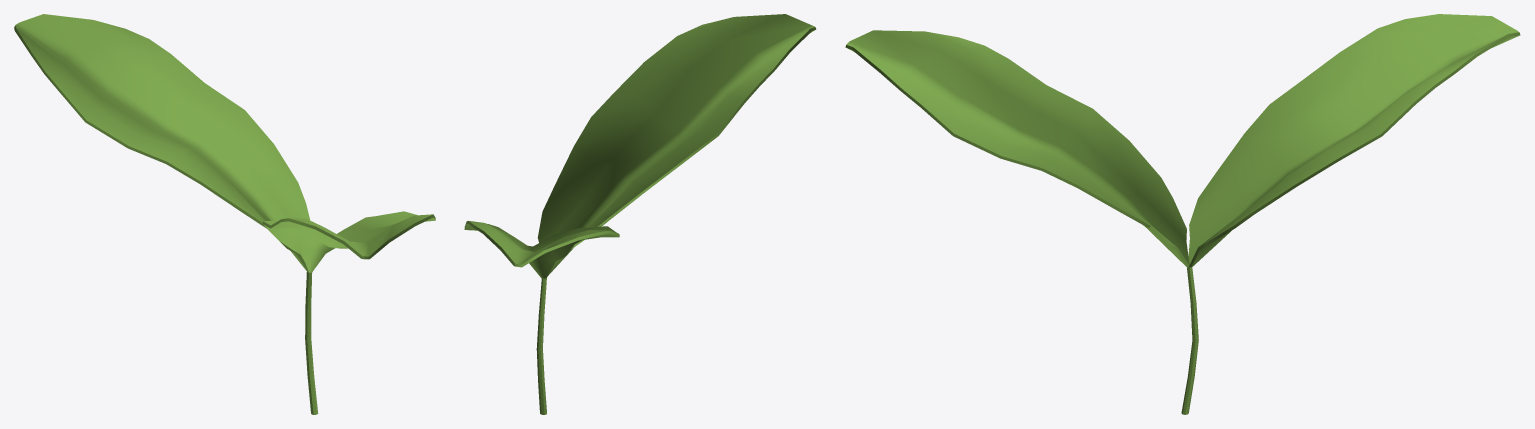
The model's file is carrot_st1.fbx.
3 views of the same model, side by side, from view 1: azimuth 30°, elevation 25°; view 2: azimuth 150°, elevation 25°; view 3: azimuth 270°, elevation 25° (orthographic). The views are drawn at different scales.
Visible parts, largest first — view 1: pCylinder2; view 2: pCylinder2; view 3: pCylinder2.
Boxes of the visible parts, x1=… form: pCylinder2: x1=14, y1=14, x2=435, y2=414; pCylinder2: x1=464, y1=14, x2=816, y2=414; pCylinder2: x1=845, y1=14, x2=1520, y2=414.
Size of the model in its own units: 0.5873 by 0.955 by 1.82.
